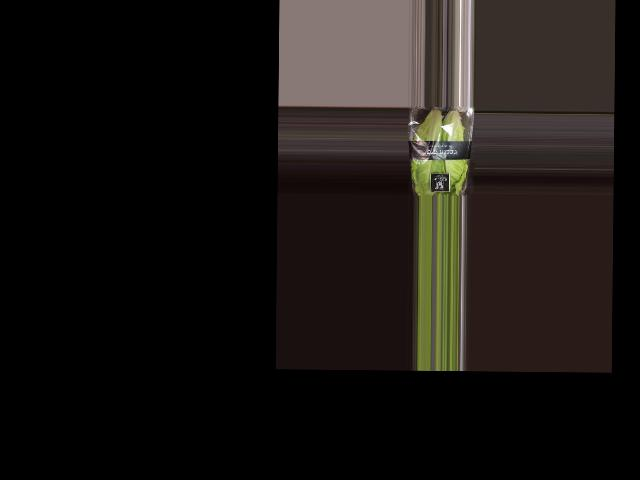lettuce: (412, 105, 473, 195)
